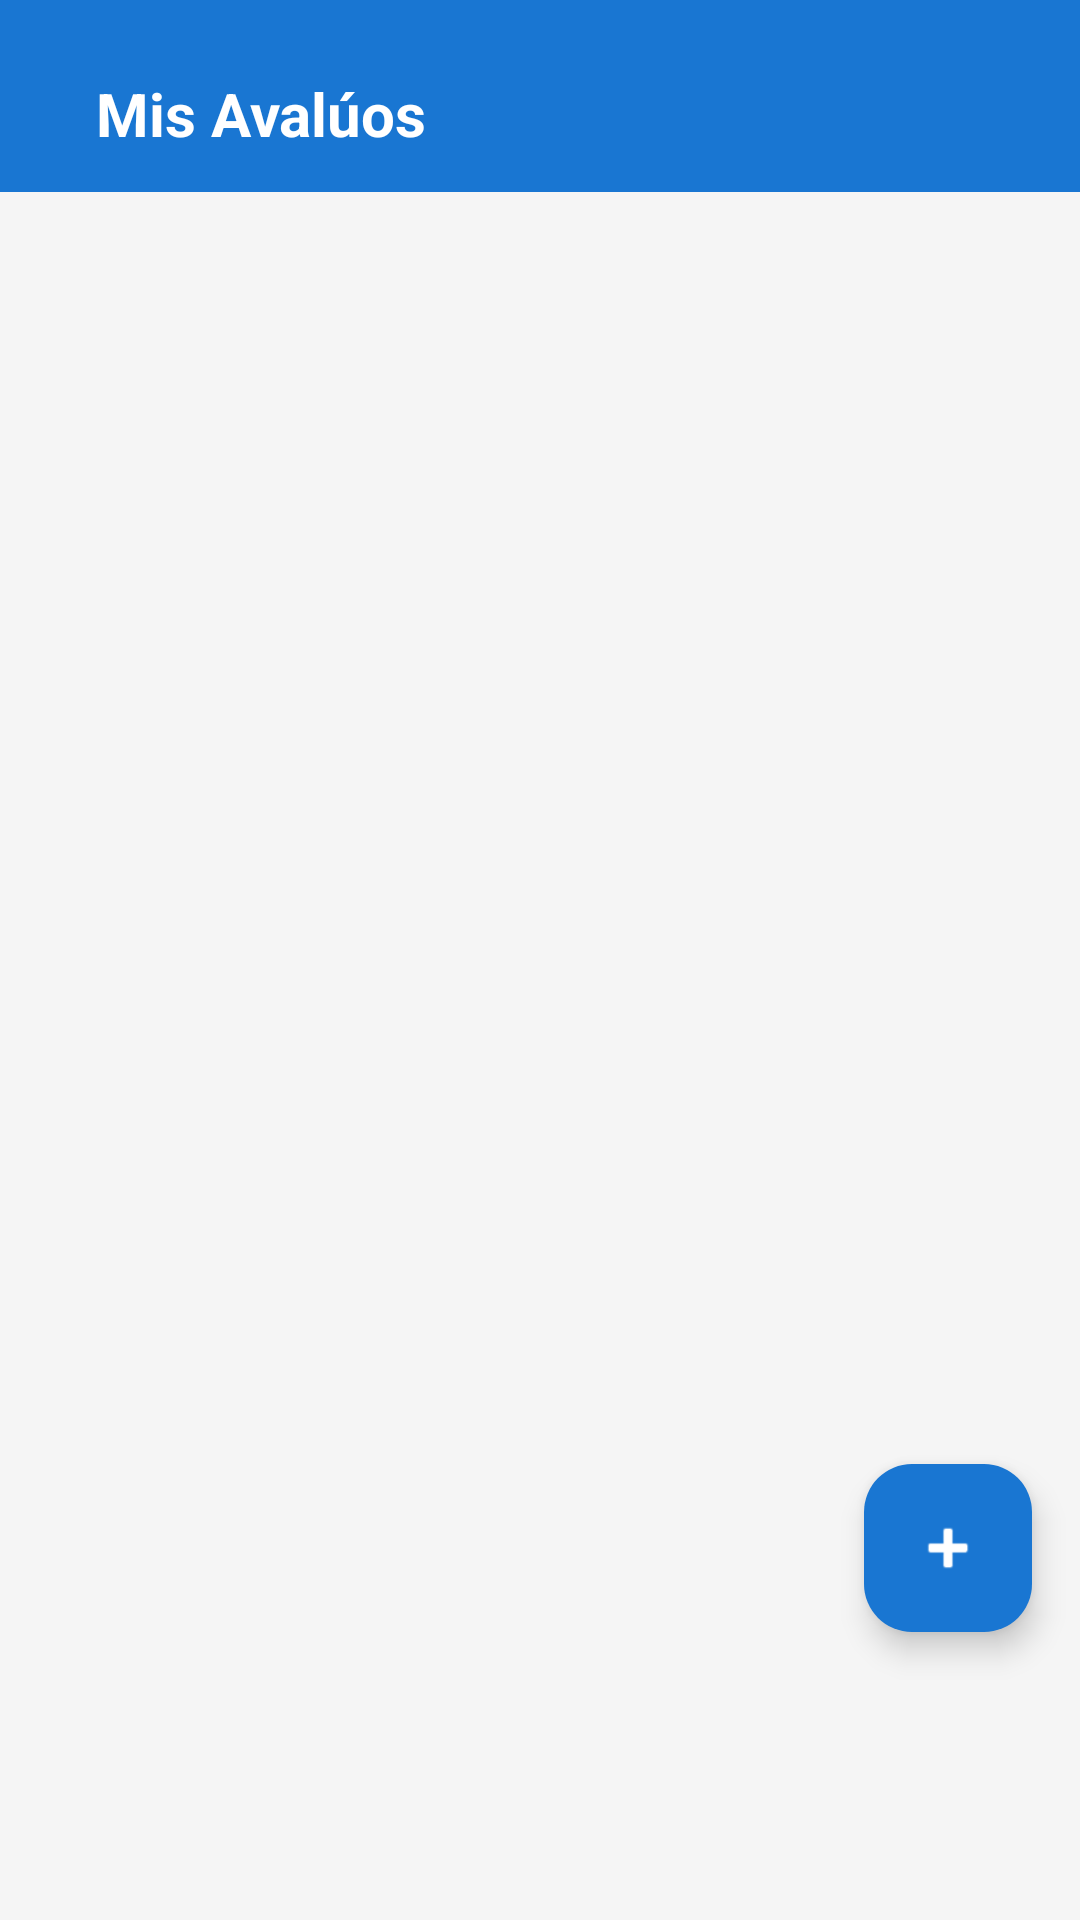

Named icons in this screenshot (1080*1920) and their centers, (x=x, y=y):
add: (x=948, y=1548)
